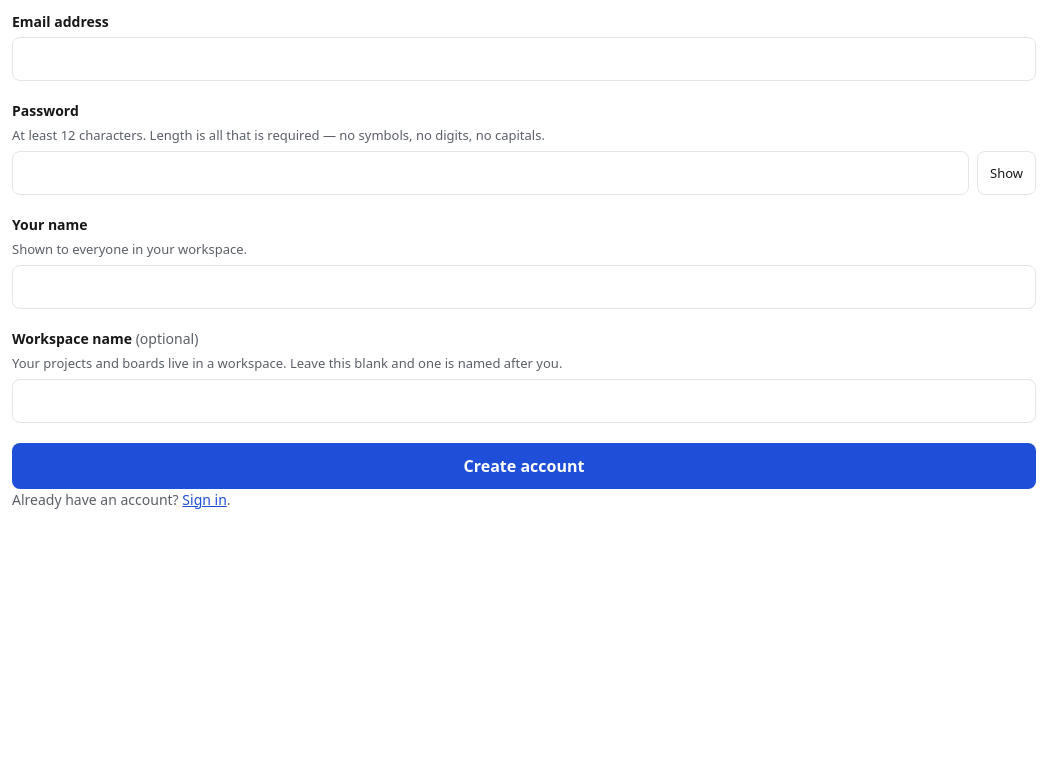
when the account exists but the session does not › does not look like the whole thing failed
The image size is (1048, 780).
Type "andy@example.com" into the field labelled "Email address".
click(524, 59); type("andy@example.com")  # box [12,37,1036,81]
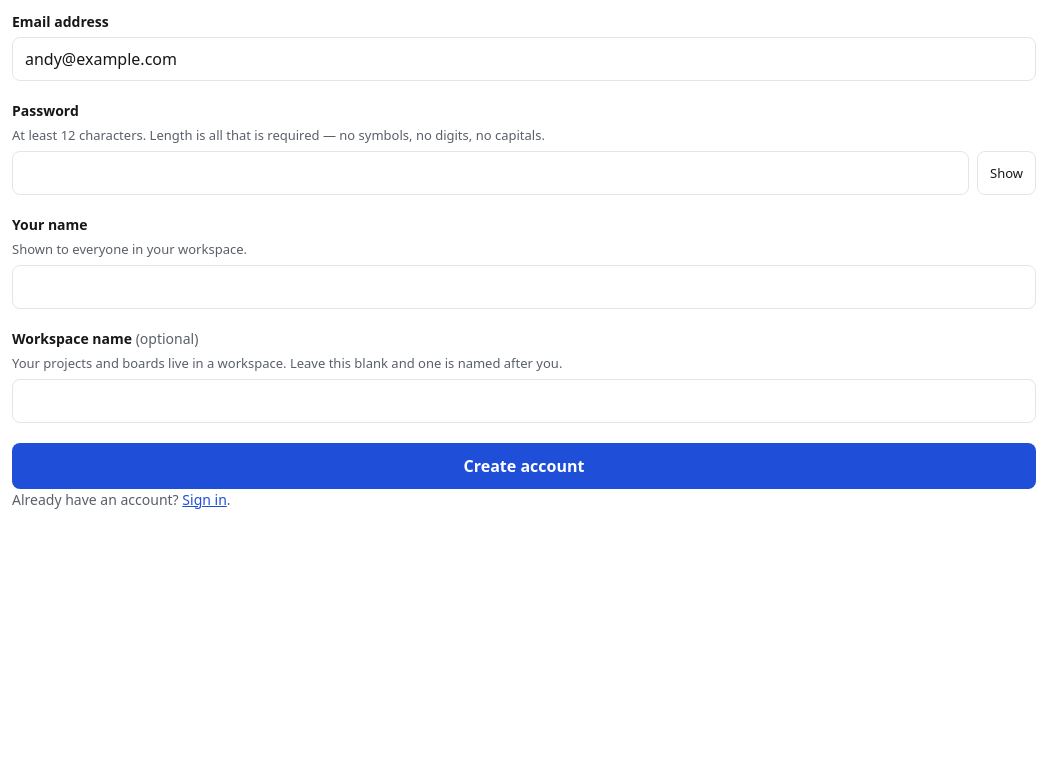
Type "correct horse battery" into the password field labelled "Password".
click(490, 173); type("correct horse battery")  # box [12,151,969,195]
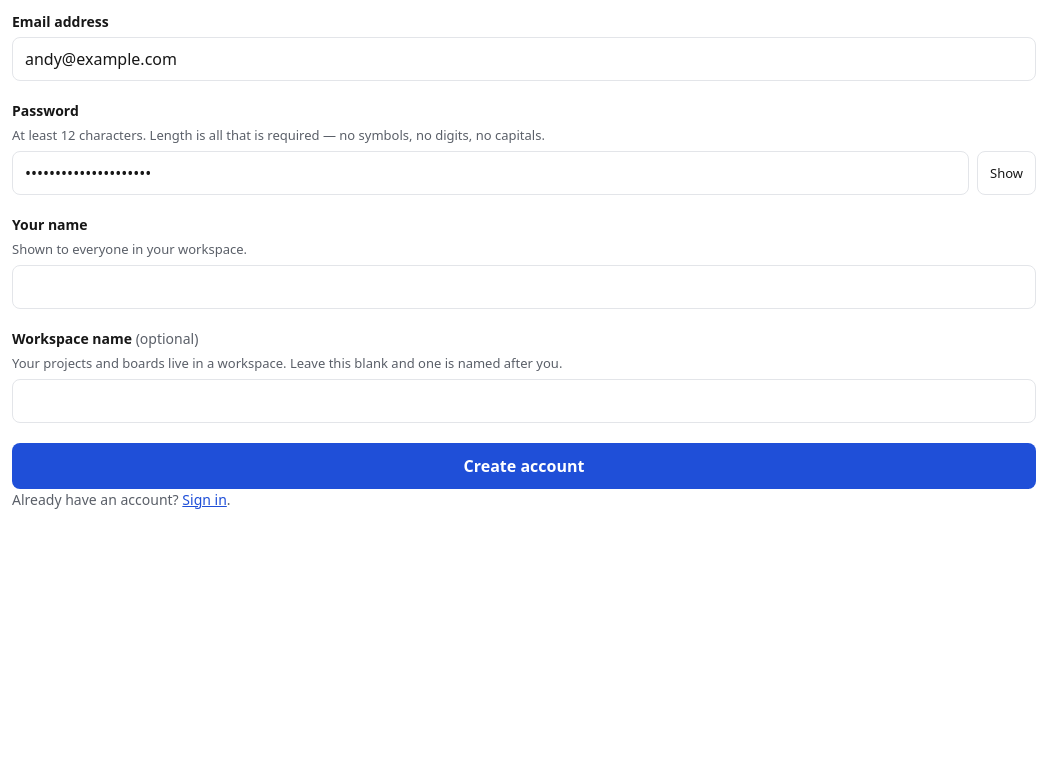
Type "Andy Vorndran" into the field labelled "Your name".
click(524, 287); type("Andy Vorndran")  # box [12,265,1036,309]
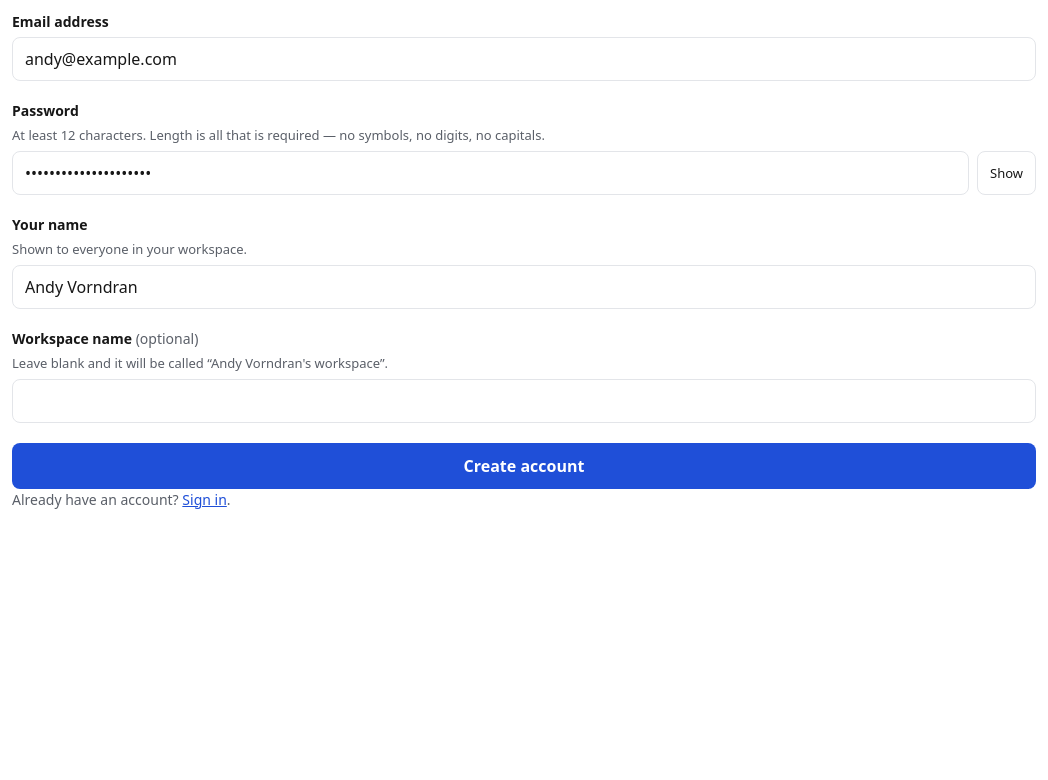
Submit the form named "Create account", box [12,12,1036,488]
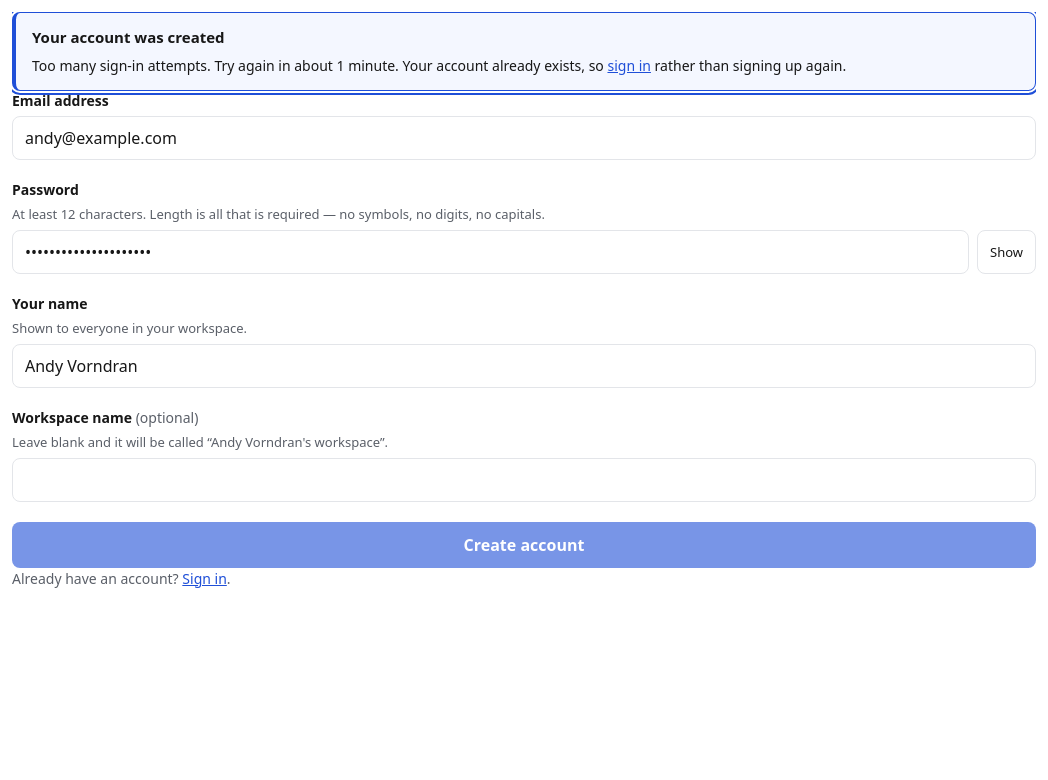
Result: the message shows "Your account was created" at [32,27,225,47]
Result: the message shows "rather than signing up again" at [651,56,846,75]
